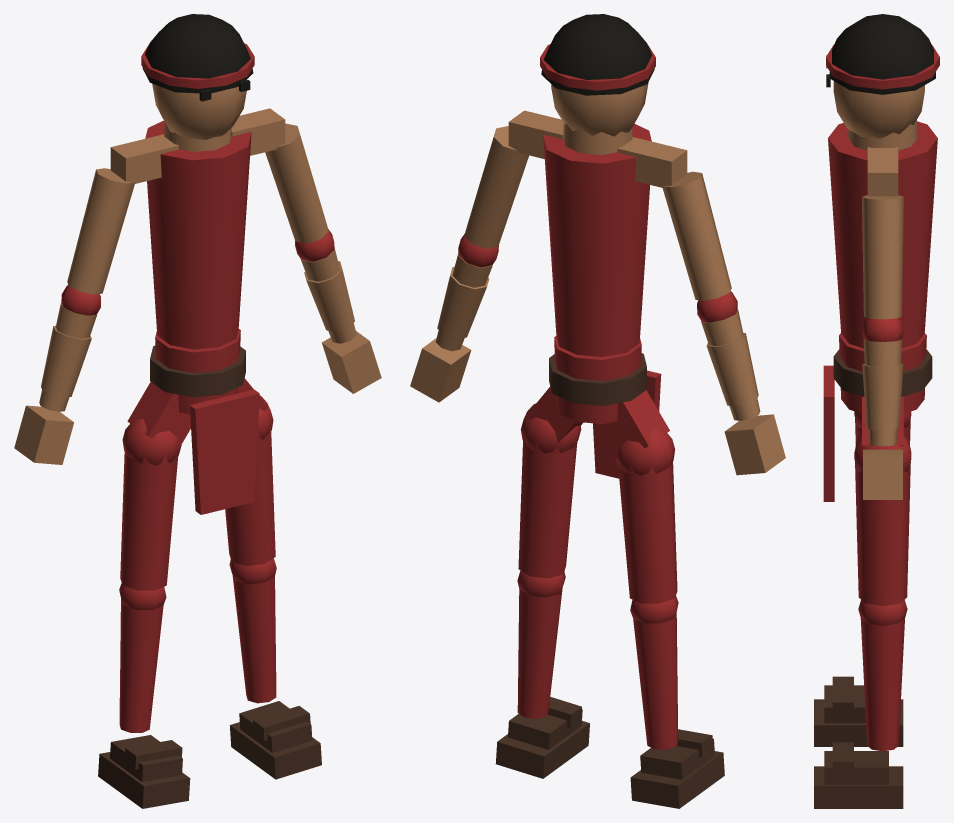
File: lapulapu-body.glb
The picture shows the model from 3 angles, left to right: view 1: azimuth 30°, elevation 25°; view 2: azimuth 150°, elevation 25°; view 3: azimuth 270°, elevation 25°; orthographic projection. The views are drawn at different scales.
Parts seen in each view (by area): view 1: FittedTorso, Apron, Thigh-1, HairCrown, UpperArm-1, Shin-1, Shin1, Thigh1, UpperArm1, ShoulderLink (×2), Face, Hand-1 (+19 smaller); view 2: FittedTorso, Thigh-1, Thigh1, HairCrown, UpperArm-1, Shin-1, Shin1, UpperArm1, ShoulderLink (×2), Face, Waist, Hand-1 (+21 smaller); view 3: FittedTorso, Thigh1, HairCrown, UpperArm1, Shin1, Face, Sandal1, Bracer1, Hand1, Waist, Foot1, Sash (+13 smaller).
Boxes of the visible parts, x1,y1,x2,y2 form: FittedTorso: (145,120,251,349); Apron: (190,389,259,514); Thigh-1: (120,451,178,590); HairCrown: (142,14,253,93); UpperArm-1: (67,168,134,294); Shin-1: (119,599,163,732); Shin1: (232,576,276,703); Thigh1: (225,426,275,565); UpperArm1: (265,123,328,243); ShoulderLink (×2): (110,108,285,184); Face: (152,83,246,139); Hand-1: (14,405,73,464); FittedTorso: (543,123,651,356); Thigh-1: (617,461,677,603); Thigh1: (518,436,577,578); HairCrown: (541,14,654,95); UpperArm-1: (662,171,731,300); Shin-1: (633,612,678,749); Shin1: (517,588,562,718); UpperArm1: (464,126,529,248); ShoulderLink (×2): (508,110,687,187); Face: (551,82,648,136); Waist: (554,336,641,423); Hand-1: (724,414,785,475); FittedTorso: (828,121,937,348); Thigh1: (855,462,910,606); HairCrown: (829,14,935,94); UpperArm1: (862,195,903,319); Shin1: (860,618,904,751); Face: (833,81,924,138); Sandal1: (814,766,903,808); Bracer1: (862,363,903,430); Hand1: (863,449,902,499); Waist: (839,333,926,413); Foot1: (824,751,888,784); Sash: (833,349,932,396).
Bounding box in the file's own units: 0.9158 × 1.88 × 0.2861.
